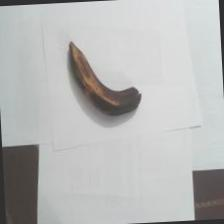Banana Rotten: (58, 28, 152, 126)
